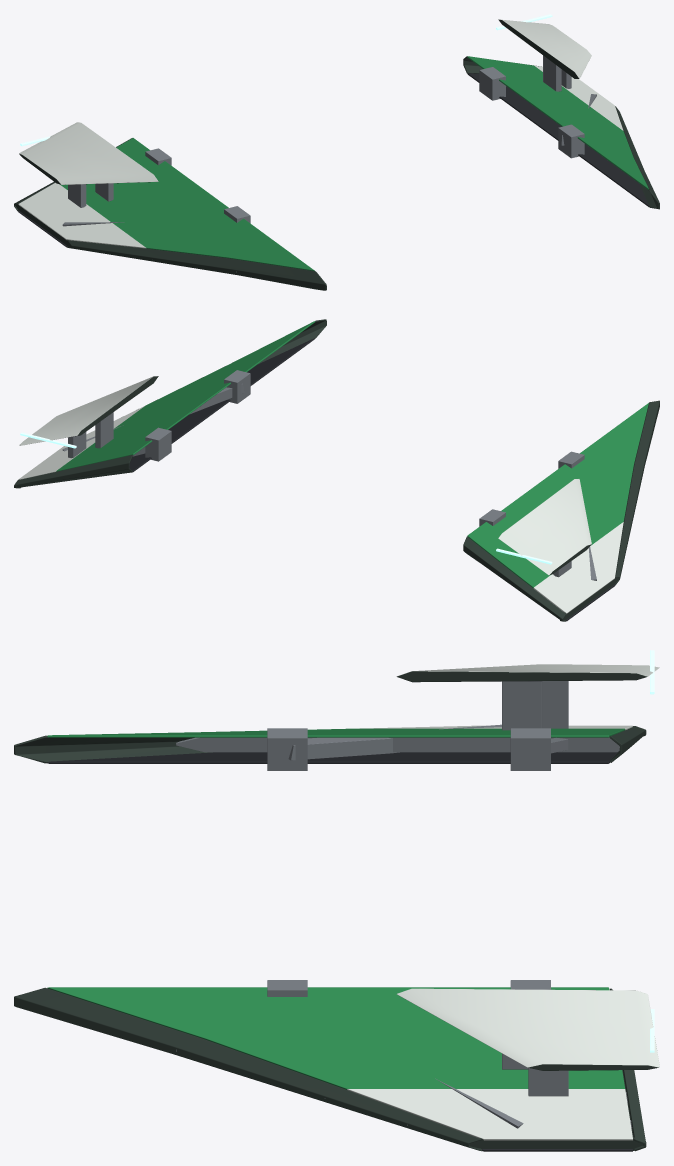
Rendered from wraith_wing_vector.fbx.
3 renders of one model, top to bottom at view 1: azimuth 30°, elevation 25°; view 2: azimuth 150°, elevation 25°; view 3: azimuth 270°, elevation 25°, orthographic. The views are drawn at different scales.
Visible parts, largest first — view 1: Wing_Top_L.001, Wing_Top_R.001, Wing_Vector_Extra_L, Wing_LE_L.001, Wing_Vector_Extra_R, Wing_Bottom_R.001, Wing_Structure_R.001, Wing_Structure_L.001, Wing_LE_R.001; view 2: Wing_Top_L.001, Wing_Top_R.001, Wing_Vector_Extra_L, Wing_Vector_Extra_R, Wing_LE_L.001, Wing_Structure_R.001, Wing_Bottom_R.001, Wing_TE_R.001, Wing_TE_L.001, Wing_Structure_L.001, Wing_LE_R.001; view 3: Wing_Top_R.001, Wing_Vector_Extra_R, Wing_LE_R.001, Wing_Structure_L.001, Wing_Vector_Extra_L, Wing_Bottom_L.001, Wing_Top_L.001, Wing_LE_L.001, Wing_Structure_R.001, Wing_Tip_R.001, Wing_TE_R.001.
Boxes of the visible parts, x1,y1,x2,y2 form: Wing_Top_L.001: (18,138,314,271); Wing_Top_R.001: (467,56,648,189); Wing_Vector_Extra_L: (19,122,158,207); Wing_LE_L.001: (67,240,326,290); Wing_Vector_Extra_R: (496,14,591,91); Wing_Bottom_R.001: (467,73,649,206); Wing_Structure_R.001: (479,67,596,158); Wing_Structure_L.001: (62,148,250,272); Wing_LE_R.001: (615,106,659,209); Wing_Top_L.001: (467,403,648,613); Wing_Top_R.001: (18,321,315,479); Wing_Vector_Extra_L: (496,479,591,577); Wing_Vector_Extra_R: (19,376,158,458); Wing_LE_L.001: (615,400,659,584); Wing_Structure_R.001: (62,370,250,461); Wing_Bottom_R.001: (129,338,314,472); Wing_TE_R.001: (14,455,132,487); Wing_TE_L.001: (463,537,566,621); Wing_Structure_L.001: (479,451,625,580); Wing_LE_R.001: (153,319,326,401); Wing_Top_R.001: (47,987,632,1140); Wing_Vector_Extra_R: (397,988,659,1096); Wing_LE_R.001: (14,987,482,1151); Wing_Structure_L.001: (176,724,619,770); Wing_Vector_Extra_L: (396,650,659,730); Wing_Bottom_L.001: (47,751,619,763); Wing_Top_L.001: (47,725,632,737); Wing_LE_L.001: (14,735,212,763); Wing_Structure_R.001: (176,980,632,1128); Wing_Tip_R.001: (469,1137,646,1150); Wing_TE_R.001: (609,988,646,1151).
Size of the model in its own units: 243 by 31.5 by 160.
